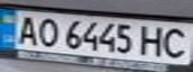4: (78, 19, 100, 52), (97, 20, 118, 53)
5: (115, 20, 139, 55)
6: (60, 17, 84, 51)
A: (12, 12, 42, 46)
C: (157, 25, 193, 60)
H: (136, 24, 169, 57)
O: (33, 16, 60, 47)
